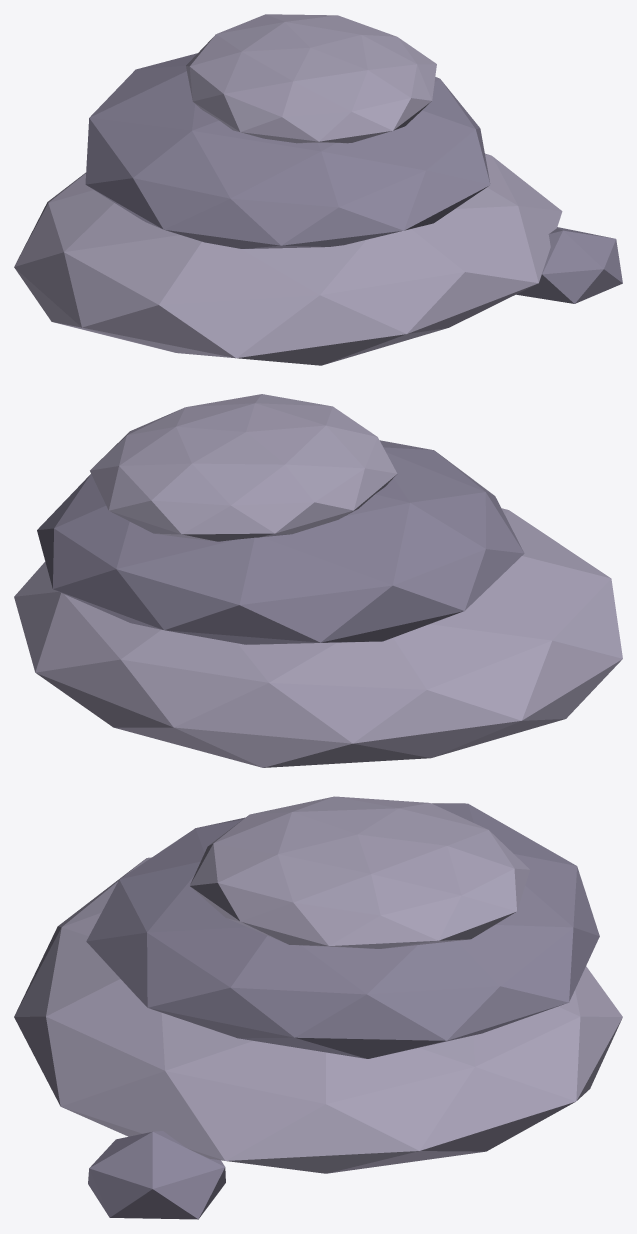
The model's file is rock_stack.glb.
3 renders of one model, top to bottom at view 1: azimuth 30°, elevation 25°; view 2: azimuth 150°, elevation 25°; view 3: azimuth 270°, elevation 25°, orthographic. The views are drawn at different scales.
Visible parts, largest first — view 1: rock_stack_tc; view 2: rock_stack_tc; view 3: rock_stack_tc.
Part boxes in pixels (<box>): rock_stack_tc: <box>14,14,622,365</box>; rock_stack_tc: <box>14,394,622,767</box>; rock_stack_tc: <box>14,796,622,1219</box>.
Size of the model in its own units: 2.24 by 0.9048 by 1.93.
